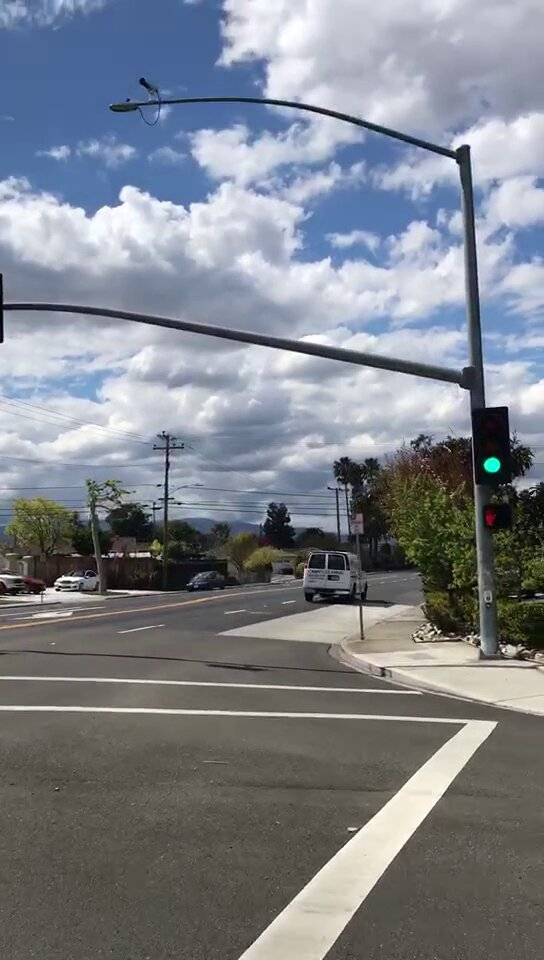green_light: (475, 410, 508, 485)
